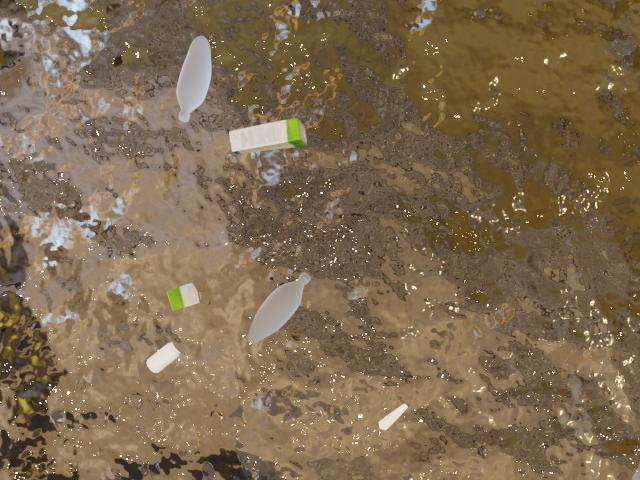Metal: (217, 113, 318, 156), (162, 274, 206, 314)
Plastic: (230, 264, 312, 352), (163, 26, 224, 130)
Trash: (141, 336, 183, 377), (371, 398, 412, 437)
